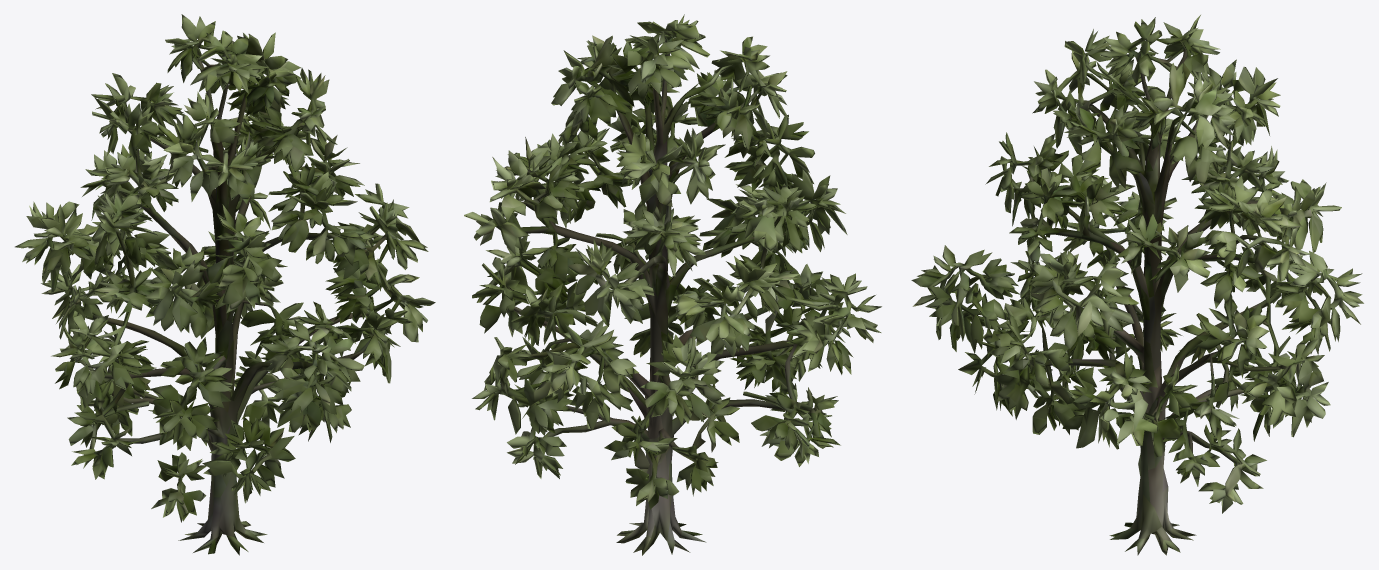
Rendered from tree_poplar.glb.
3 renders of one model, left to right at view 1: azimuth 30°, elevation 25°; view 2: azimuth 150°, elevation 25°; view 3: azimuth 270°, elevation 25°, orthographic. The views are drawn at different scales.
Visible parts, largest first — view 1: tripo_node_d82a65ec-2df2-4dec-bcbc-66f974eefc0e; view 2: tripo_node_d82a65ec-2df2-4dec-bcbc-66f974eefc0e; view 3: tripo_node_d82a65ec-2df2-4dec-bcbc-66f974eefc0e.
Boxes of the visible parts, bbox=[...] form: tripo_node_d82a65ec-2df2-4dec-bcbc-66f974eefc0e: bbox=[15, 14, 435, 555]; tripo_node_d82a65ec-2df2-4dec-bcbc-66f974eefc0e: bbox=[464, 14, 881, 555]; tripo_node_d82a65ec-2df2-4dec-bcbc-66f974eefc0e: bbox=[911, 15, 1363, 555].
Size of the model in its own units: 0.7645 by 1 by 0.7954.
Materials: 1 (1 with a texture image).
